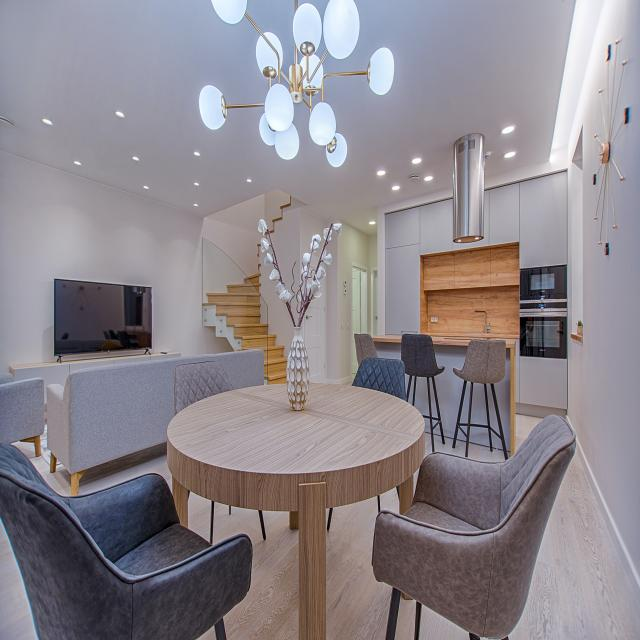Staircase: (206, 262, 290, 395)
a sofa: (54, 333, 287, 451), (0, 365, 55, 472)
chair: (0, 430, 237, 637), (409, 433, 592, 640), (341, 340, 417, 458), (396, 324, 458, 434), (456, 328, 516, 416), (350, 313, 396, 403)
oven: (516, 271, 564, 369)
table: (165, 354, 416, 561)
television: (46, 269, 163, 358)
